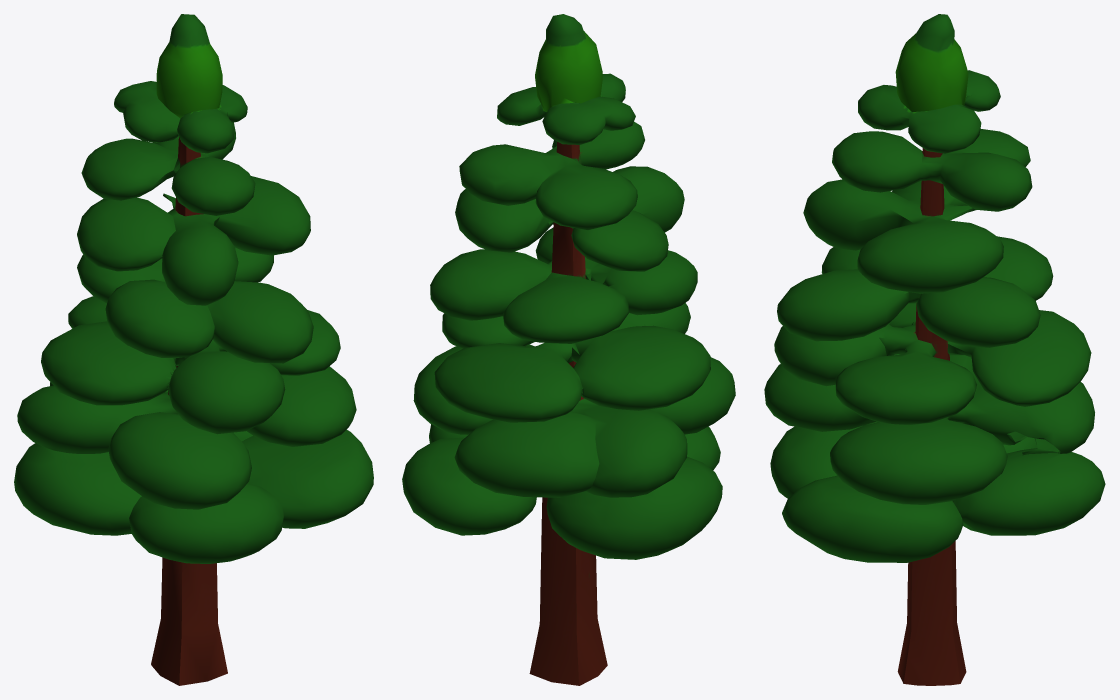
File: valley-pine-model.glb
3 renders of one model, left to right at view 1: azimuth 30°, elevation 25°; view 2: azimuth 150°, elevation 25°; view 3: azimuth 270°, elevation 25°, orthographic.
Parts seen in each view (by area): view 1: valley-pine.001; view 2: valley-pine.001; view 3: valley-pine.001.
Boxes of the visible parts, x1=… form: valley-pine.001: x1=14, y1=14, x2=373, y2=685; valley-pine.001: x1=402, y1=14, x2=735, y2=685; valley-pine.001: x1=764, y1=14, x2=1105, y2=685.
Size of the model in its own units: 4.75 by 10 by 4.7.
Materials: 1 (1 with a texture image).
